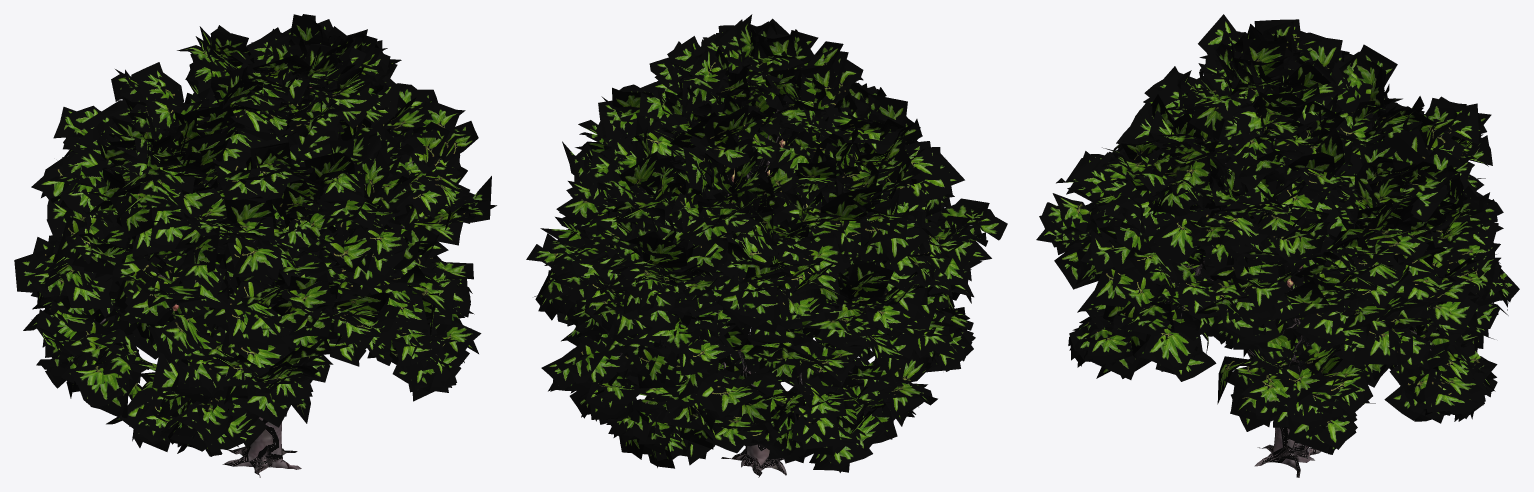
The model's file is mango_tree.glb.
3 views of the same model, side by side, from view 1: azimuth 30°, elevation 25°; view 2: azimuth 150°, elevation 25°; view 3: azimuth 270°, elevation 25° (orthographic). The views are drawn at different scales.
Parts seen in each view (by area): view 1: leaves, tree; view 2: leaves, tree; view 3: leaves, tree.
Part boxes in pixels (box(x1,y1,x2,y2)): leaves: box(14, 14, 496, 456); tree: box(99, 73, 446, 477); leaves: box(526, 14, 1007, 472); tree: box(577, 64, 856, 477); leaves: box(1036, 14, 1519, 454); tree: box(1153, 92, 1435, 477).
Size of the model in its own units: 6.71 by 6.96 by 6.96.
3 materials, 3 textured.
